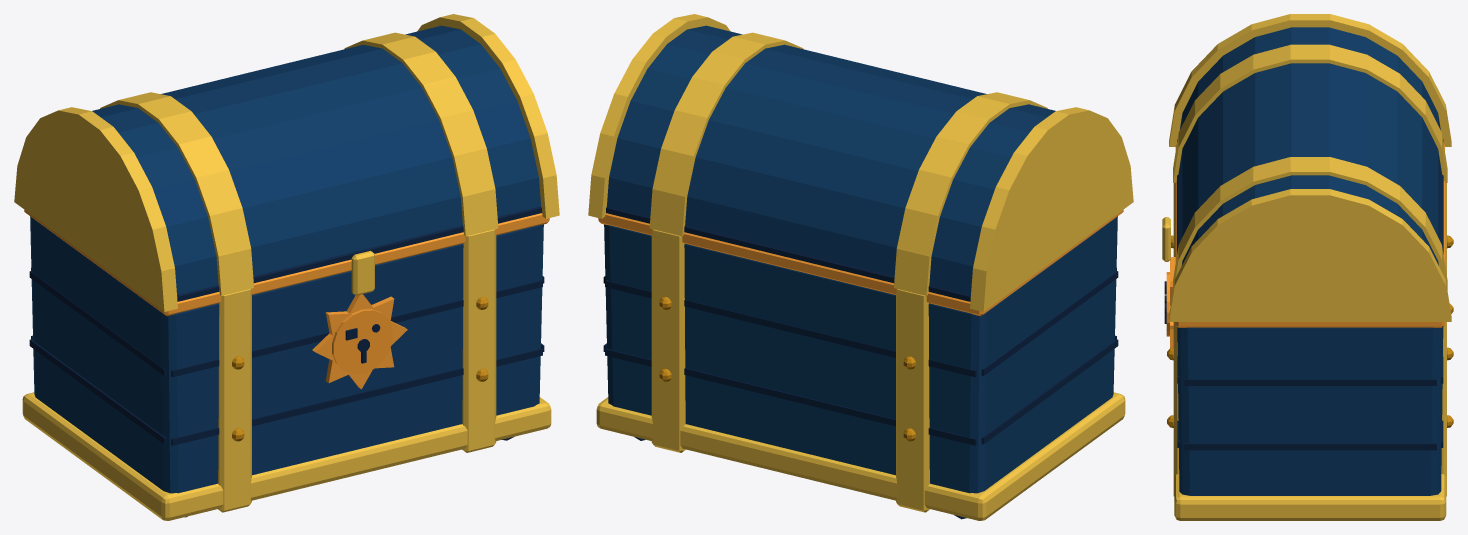
File: grand_treasure_chest.web-pbr.glb
3 views of the same model, side by side, from view 1: azimuth 30°, elevation 25°; view 2: azimuth 150°, elevation 25°; view 3: azimuth 270°, elevation 25° (orthographic). The views are drawn at different scales.
Parts seen in each view (by area): view 1: chest_body, chest_lid; view 2: chest_body, chest_lid; view 3: chest_lid, chest_body.
Boxes of the visible parts, <box> form: chest_body: <box>22,210,551,520</box>; chest_lid: <box>14,14,559,311</box>; chest_body: <box>596,210,1125,520</box>; chest_lid: <box>588,14,1133,311</box>; chest_lid: <box>1162,14,1451,321</box>; chest_body: <box>1164,145,1453,520</box>.
Size of the model in its own units: 2.17 by 1.91 by 1.48.
1 material, 1 textured.
